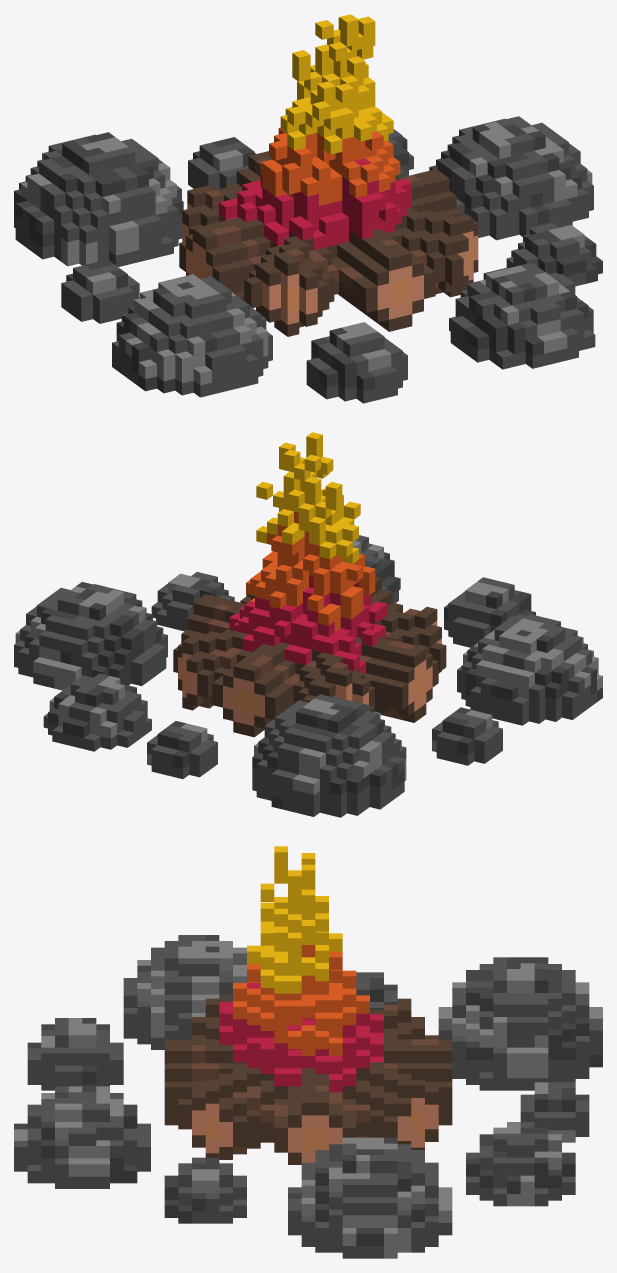
The model's file is prop_campfire.glb.
3 views of the same model, one above another, from view 1: azimuth 30°, elevation 25°; view 2: azimuth 150°, elevation 25°; view 3: azimuth 270°, elevation 25° (orthographic). The views are drawn at different scales.
Parts seen in each view (by area): view 1: prop_campfire; view 2: prop_campfire; view 3: prop_campfire.
Boxes of the visible parts, box(x1,y1,x2,y2) form: prop_campfire: box(14, 14, 602, 403); prop_campfire: box(14, 432, 602, 817); prop_campfire: box(14, 846, 602, 1258).
Bounding box in the file's own units: 4.6 × 2.2 × 4.3.
Materials: 1 (1 with a texture image).
